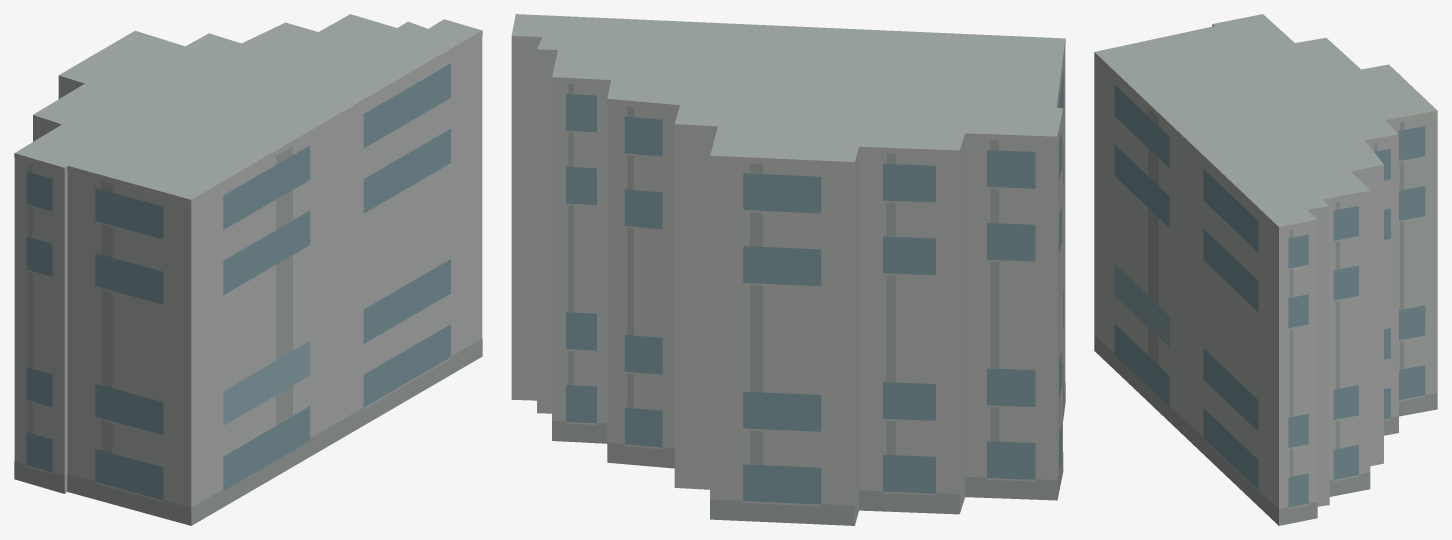
Rendered from survey-upis-32962696.glb.
3 views of the same model, side by side, from view 1: azimuth 30°, elevation 25°; view 2: azimuth 150°, elevation 25°; view 3: azimuth 270°, elevation 25° (orthographic). The views are drawn at different scales.
Visible parts, largest first — view 1: survey-upis-32962696.tmp; view 2: survey-upis-32962696.tmp; view 3: survey-upis-32962696.tmp.
Boxes of the visible parts, x1=… form: survey-upis-32962696.tmp: x1=14, y1=14, x2=482, y2=525; survey-upis-32962696.tmp: x1=511, y1=14, x2=1065, y2=525; survey-upis-32962696.tmp: x1=1094, y1=14, x2=1437, y2=525.
Size of the model in its own units: 22.73 by 14.85 by 15.47.
